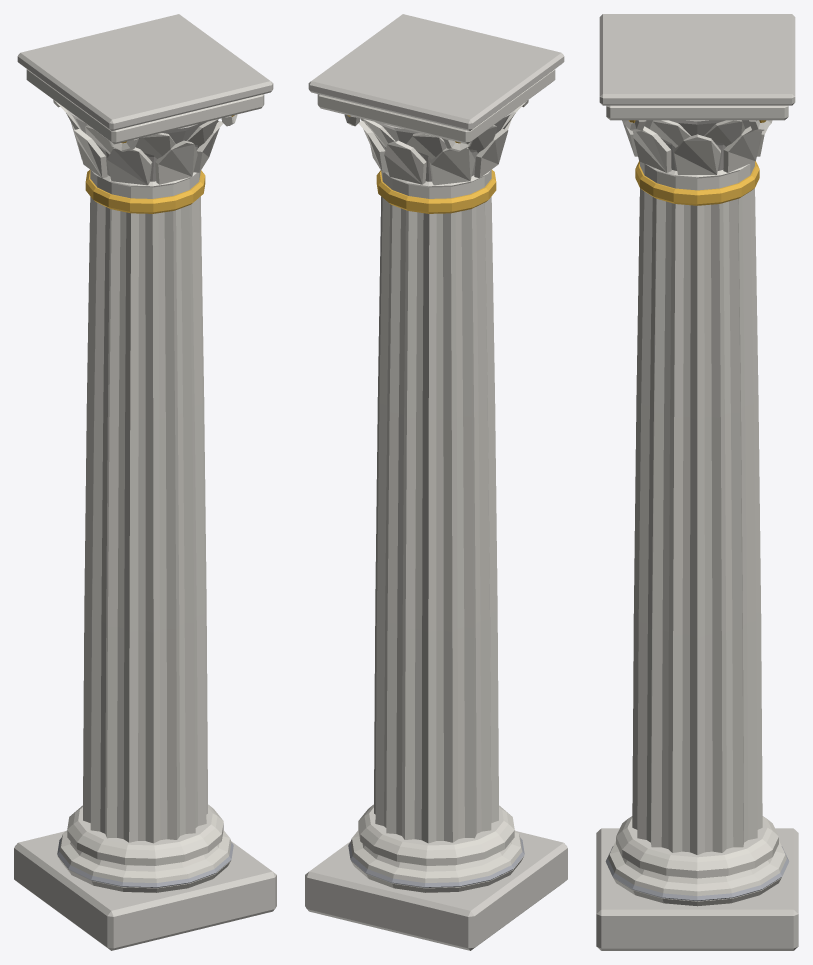
Rendered from column.obj.
The picture shows the model from 3 angles, left to right: view 1: azimuth 30°, elevation 25°; view 2: azimuth 150°, elevation 25°; view 3: azimuth 270°, elevation 25°; orthographic projection. The views are drawn at different scales.
Parts seen in each view (by area): view 1: shaft, box.002, box, lathe, box.001, lathe.002, lathe.003, prism.014, prism, lathe.001, prism.012, lathe.004 (+1 smaller); view 2: shaft, box.002, box, lathe, box.001, lathe.002, lathe.003, prism.008, prism.010, lathe.001, prism.012, lathe.004 (+1 smaller); view 3: shaft, box.002, box, lathe, box.001, lathe.002, lathe.003, prism.004, prism.002, prism.006, lathe.001, lathe.004 (+2 smaller).
Part boxes in pixels (x1,y1,x2,y2): shaft: (83, 196, 207, 843); box.002: (17, 14, 273, 130); box: (14, 831, 276, 950); lathe: (58, 804, 231, 892); box.001: (26, 69, 264, 144); lathe.002: (85, 169, 205, 213); lathe.003: (90, 167, 202, 198); prism.014: (106, 147, 152, 185); prism: (155, 140, 197, 184); lathe.001: (57, 838, 233, 887); prism.012: (73, 129, 107, 178); lathe.004: (66, 109, 206, 181); shaft: (374, 196, 498, 843); box.002: (308, 14, 564, 130); box: (305, 831, 567, 950); lathe: (350, 804, 523, 892); box.001: (317, 69, 555, 144); lathe.002: (376, 169, 496, 213); lathe.003: (379, 167, 491, 198); prism.008: (384, 140, 426, 184); prism.010: (429, 147, 475, 185); lathe.001: (348, 838, 524, 887); prism.012: (474, 129, 508, 178); lathe.004: (366, 109, 515, 181); shaft: (632, 188, 762, 854); box.002: (599, 14, 795, 105); box: (596, 828, 798, 950); lathe: (608, 816, 786, 906); box.001: (606, 105, 788, 120); lathe.002: (635, 161, 759, 205); lathe.003: (640, 162, 754, 190); prism.004: (674, 134, 720, 174); prism.002: (633, 126, 671, 172); prism.006: (723, 126, 761, 172); lathe.001: (605, 846, 789, 901); lathe.004: (644, 120, 750, 170).
Bounding box in the file's own units: 0.62 × 2.9 × 0.62.
